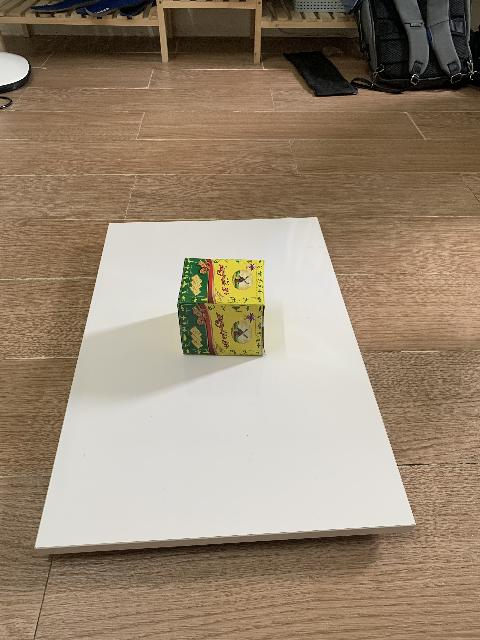luong_kho: (177, 258, 266, 361)
